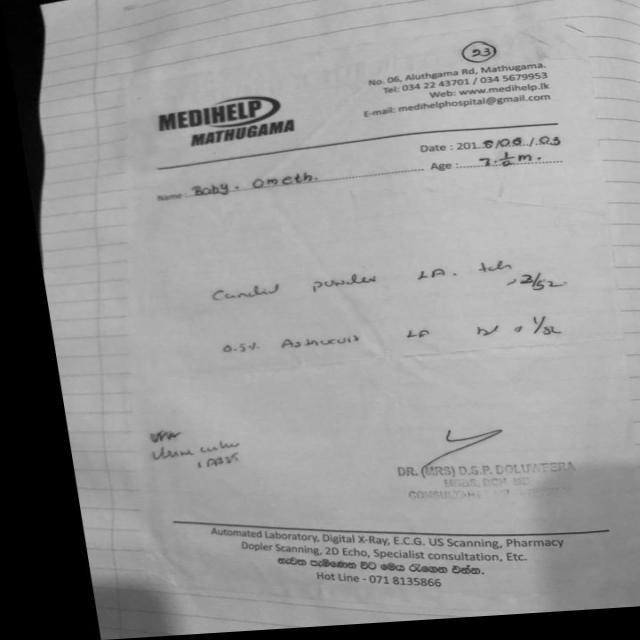Prescription: (190, 250, 561, 320), (200, 312, 560, 370)
